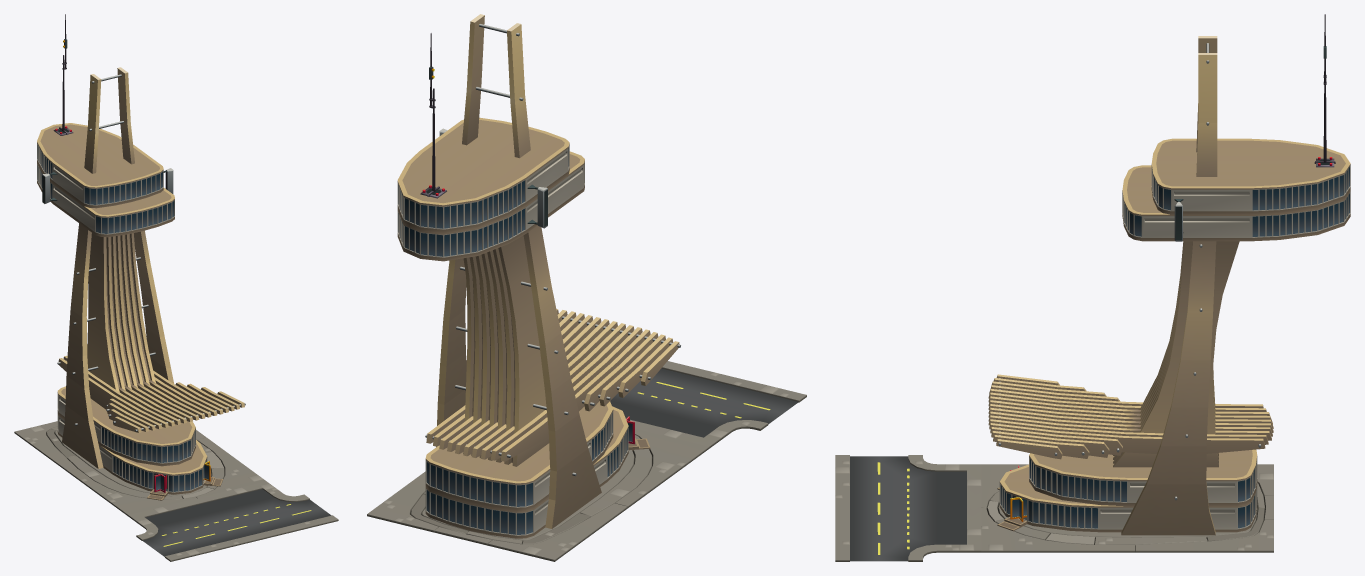
Rendered from Control_Tower_1A.fbx.
3 views of the same model, side by side, from view 1: azimuth 30°, elevation 25°; view 2: azimuth 150°, elevation 25°; view 3: azimuth 270°, elevation 25° (orthographic). The views are drawn at different scales.
Visible parts, largest first — view 1: Control_Tower_1A, Control_Tower_1A_Addon; view 2: Control_Tower_1A, Control_Tower_1A_Addon; view 3: Control_Tower_1A, Control_Tower_1A_Addon.
Boxes of the visible parts, x1,y1,x2,y2 form: Control_Tower_1A: [14, 14, 266, 515]; Control_Tower_1A_Addon: [128, 481, 338, 561]; Control_Tower_1A: [367, 14, 709, 561]; Control_Tower_1A_Addon: [610, 361, 806, 448]; Control_Tower_1A: [981, 14, 1350, 552]; Control_Tower_1A_Addon: [835, 455, 981, 561].
Size of the model in its own units: 3400 by 7495 by 7050.
